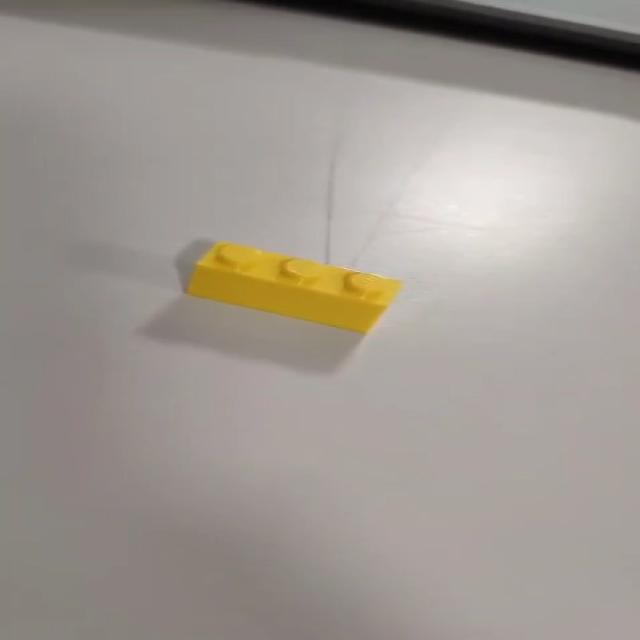C3x1x1: (188, 237, 415, 333)
